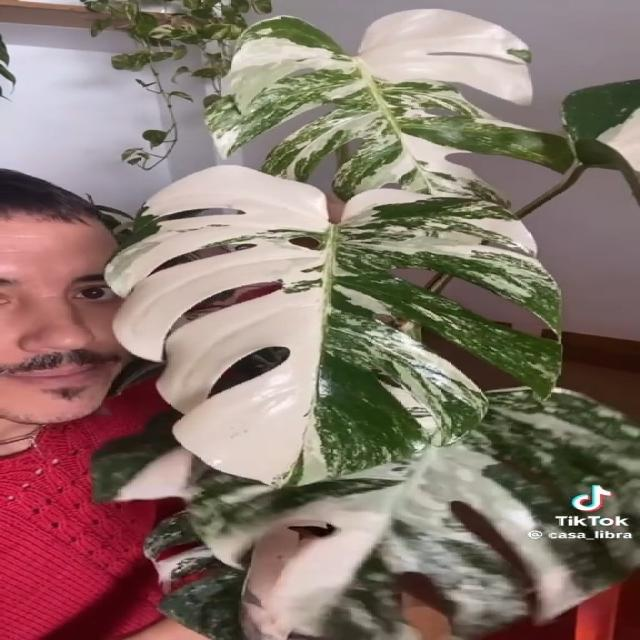lisc_variegata: (103, 163, 564, 489), (182, 385, 640, 640), (200, 9, 576, 206), (143, 510, 300, 640), (560, 78, 640, 212), (92, 407, 203, 503)
roslina_variegata: (89, 8, 639, 640)
